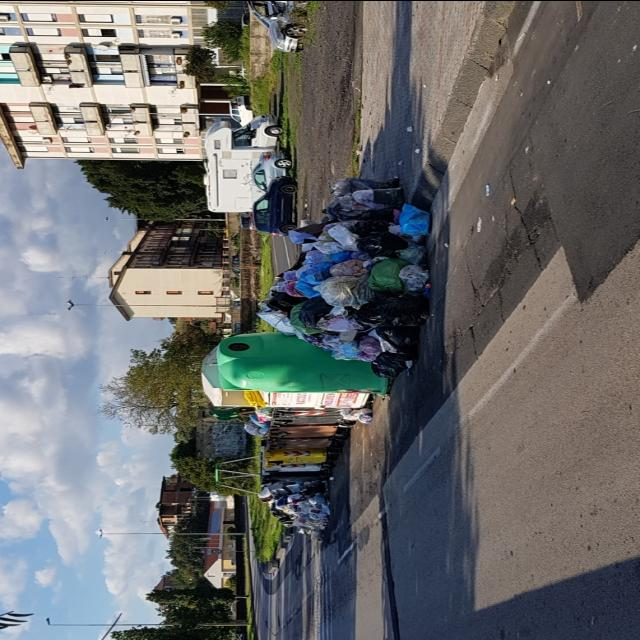garbage: (245, 172, 454, 368), (259, 472, 352, 548)
